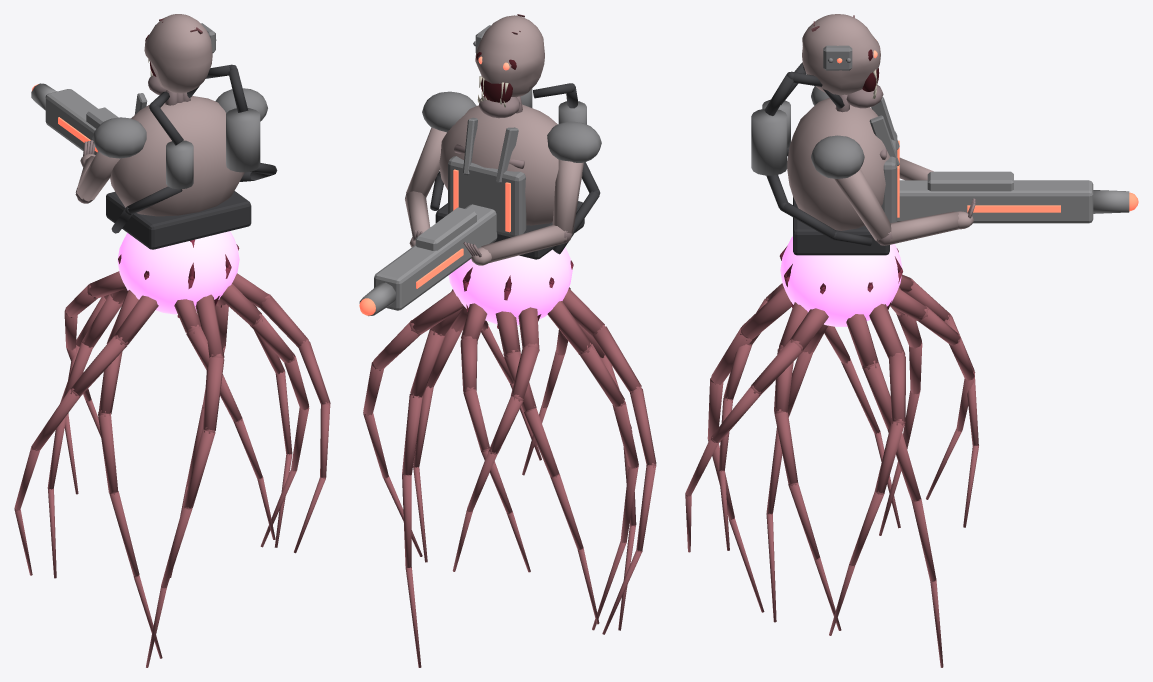
Rendered from levit.glb.
3 views of the same model, side by side, from view 1: azimuth 30°, elevation 25°; view 2: azimuth 150°, elevation 25°; view 3: azimuth 270°, elevation 25° (orthographic). The views are drawn at different scales.
Visible parts, largest first — view 1: Organ, Body; view 2: Body, Organ; view 3: Body, Organ.
Boxes of the visible parts, x1,y1,x2,y2 form: Organ: (14,231,330,667); Body: (31,14,277,249); Body: (359,14,601,316); Organ: (363,247,656,667); Body: (751,14,1138,255); Organ: (685,236,978,667).
Bounding box in the file's own units: 0.904 × 1.93 × 1.26.
